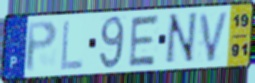9: (98, 14, 127, 71)
E: (127, 13, 162, 68)
L: (59, 18, 85, 72)
N: (162, 10, 199, 67)
P: (25, 19, 60, 74)
V: (197, 9, 231, 64)
